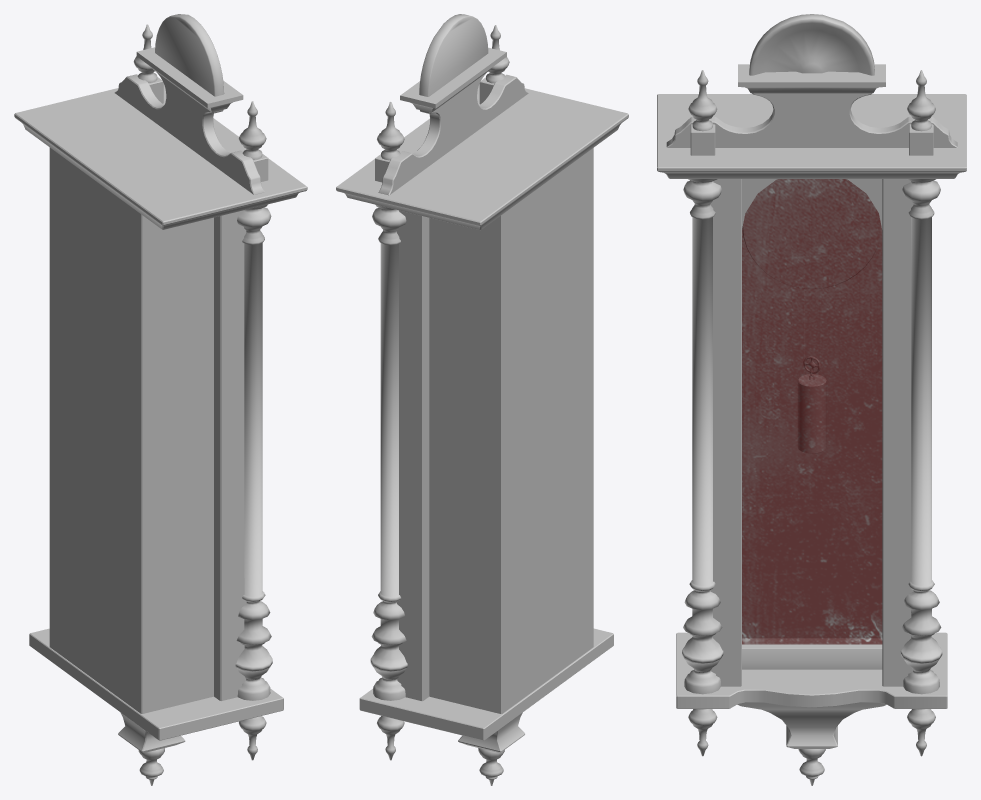
Rendered from SM_RegulatorClockA.FBX.
3 renders of one model, left to right at view 1: azimuth 30°, elevation 25°; view 2: azimuth 150°, elevation 25°; view 3: azimuth 270°, elevation 25°, orthographic. The views are drawn at different scales.
Visible parts, largest first — view 1: SM_RegulatorClockA_LOD0; view 2: SM_RegulatorClockA_LOD0; view 3: SM_RegulatorClockA_LOD0.
Boxes of the visible parts, <box> form: SM_RegulatorClockA_LOD0: <box>14,14,307,785</box>; SM_RegulatorClockA_LOD0: <box>336,14,628,785</box>; SM_RegulatorClockA_LOD0: <box>657,14,966,785</box>.
Size of what is drawn, in the model's own units: 21.26 by 106 by 37.76.
